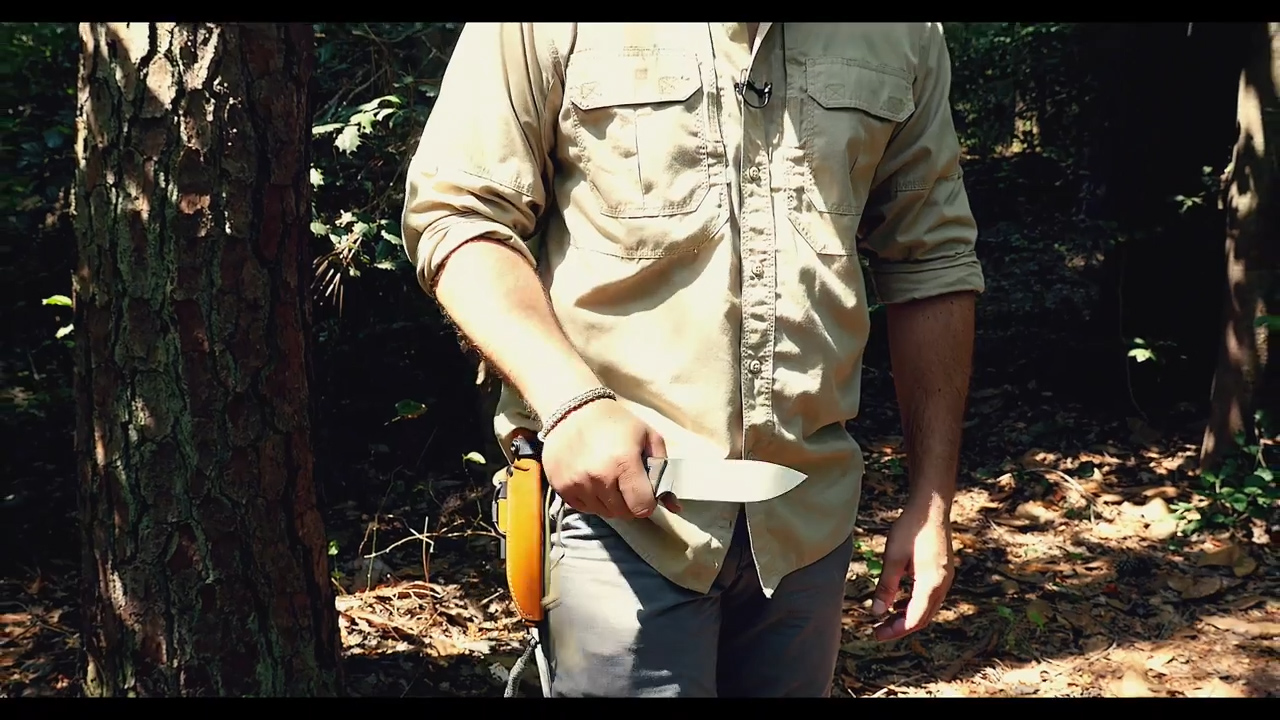knife: (545, 398, 825, 530)
